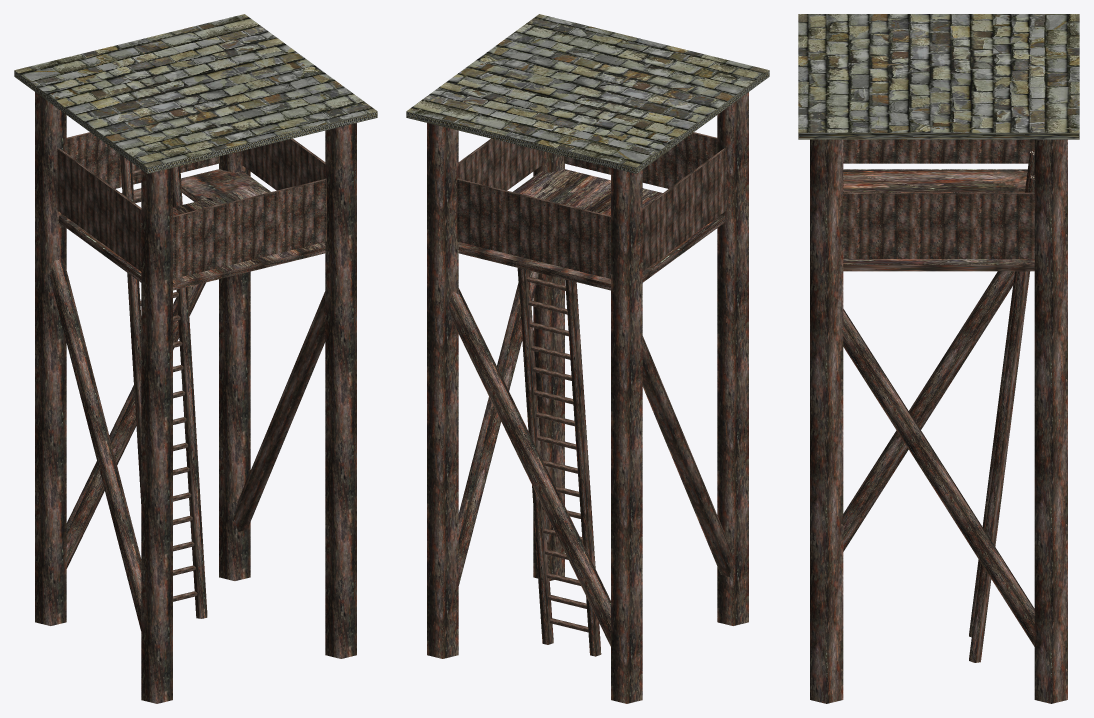
The model's file is GuardTower.FBX.
3 renders of one model, left to right at view 1: azimuth 30°, elevation 25°; view 2: azimuth 150°, elevation 25°; view 3: azimuth 270°, elevation 25°, orthographic. The views are drawn at different scales.
Visible parts, largest first — view 1: Box002, Cylinder002, Cylinder001, Cylinder003, Box003, Cylinder004, Cylinder027, Box005, Box001, Cylinder029, Cylinder005, Cylinder028 (+3 smaller); view 2: Box002, Cylinder003, Cylinder004, Cylinder002, Box004, Cylinder028, Cylinder001, Box001, Box005, Cylinder027, Cylinder029, Cylinder006 (+3 smaller); view 3: Box002, Cylinder004, Cylinder001, Box006, Cylinder029, Box001, Cylinder027, Cylinder005, Box005, Cylinder006.
Boxes of the visible parts, x1,y1,x2,y2 form: Box002: [14, 14, 377, 173]; Cylinder002: [141, 168, 172, 703]; Cylinder001: [325, 123, 356, 658]; Cylinder003: [35, 92, 66, 625]; Box003: [173, 179, 326, 278]; Cylinder004: [219, 151, 250, 580]; Cylinder027: [49, 259, 141, 630]; Box005: [57, 148, 141, 271]; Box001: [58, 169, 325, 290]; Cylinder029: [233, 291, 325, 531]; Cylinder005: [173, 166, 207, 618]; Cylinder028: [66, 282, 205, 568]; Box002: [406, 14, 769, 173]; Cylinder003: [611, 168, 642, 703]; Cylinder004: [427, 123, 458, 658]; Cylinder002: [717, 92, 748, 625]; Box004: [457, 179, 610, 278]; Cylinder028: [448, 288, 610, 646]; Cylinder001: [533, 151, 564, 580]; Box001: [458, 169, 725, 290]; Box005: [642, 148, 726, 271]; Cylinder027: [642, 336, 734, 576]; Cylinder029: [458, 270, 539, 585]; Cylinder006: [565, 279, 601, 656]; Box002: [798, 14, 1079, 139]; Cylinder004: [1034, 139, 1067, 703]; Cylinder001: [810, 139, 843, 703]; Box006: [843, 192, 1034, 258]; Cylinder029: [841, 309, 1036, 646]; Box001: [843, 169, 1034, 271]; Cylinder027: [843, 271, 1014, 551]; Cylinder005: [969, 175, 1034, 662]; Box005: [843, 139, 1034, 163]; Cylinder006: [969, 150, 1034, 637].
Size of the model in its own units: 37.55 by 84.8 by 37.55.
